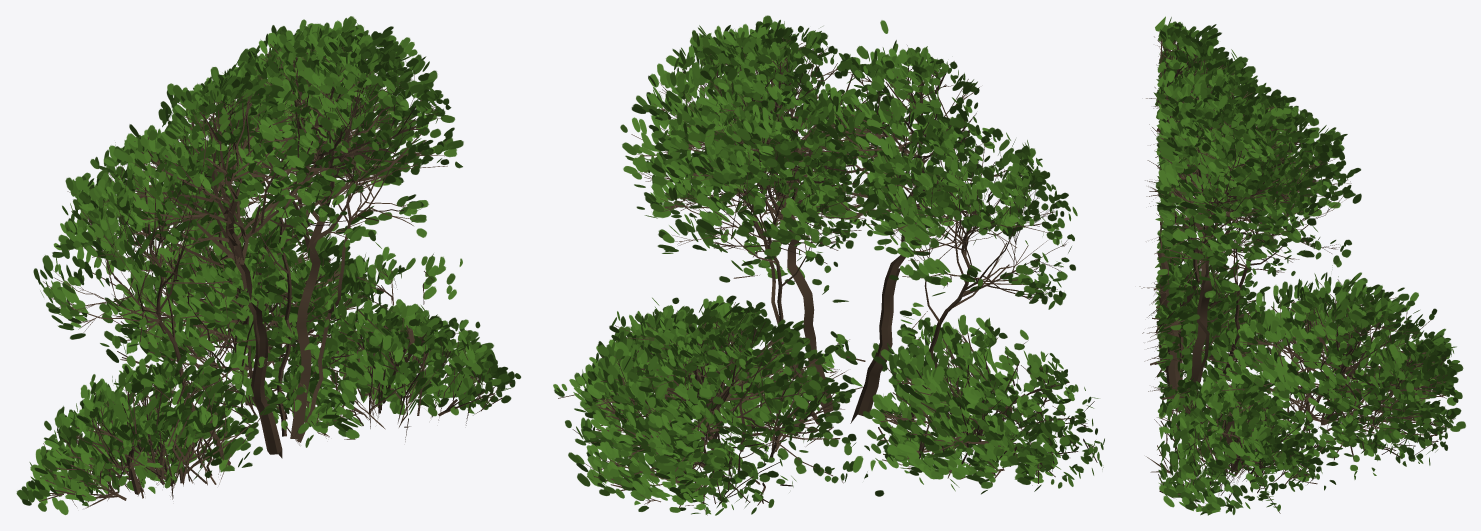
3 views of the same model, side by side, from view 1: azimuth 30°, elevation 25°; view 2: azimuth 150°, elevation 25°; view 3: azimuth 270°, elevation 25° (orthographic). The views are drawn at different scales.
Visible parts, largest first — view 1: oak 01.001_trunk_Mat.001_0.181; view 2: oak 01.001_trunk_Mat.001_0.181; view 3: oak 01.001_trunk_Mat.001_0.181.
Part boxes in pixels (x1=…): oak 01.001_trunk_Mat.001_0.181: x1=16, y1=16, x2=520, y2=514; oak 01.001_trunk_Mat.001_0.181: x1=553, y1=15, x2=1104, y2=515; oak 01.001_trunk_Mat.001_0.181: x1=1139, y1=16, x2=1465, y2=515.
Bounding box in the file's own units: 4.19 × 3.36 × 2.62.
Materials: 2 (1 with a texture image).
